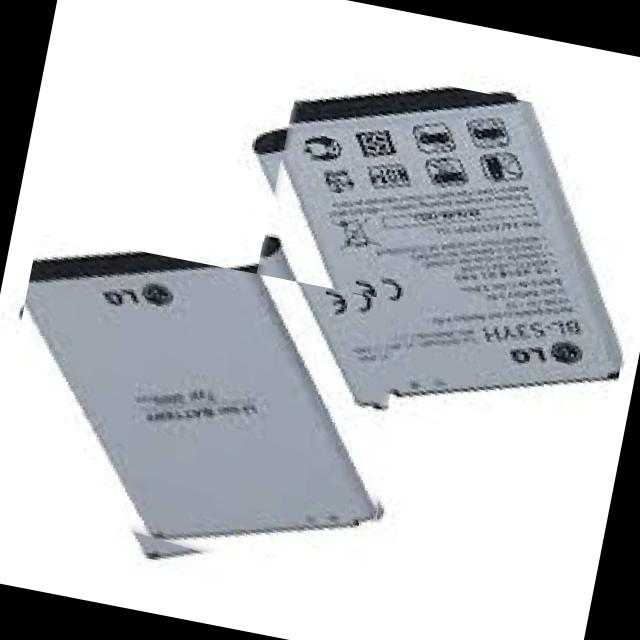Hazard: (285, 89, 622, 441), (25, 253, 376, 543)
